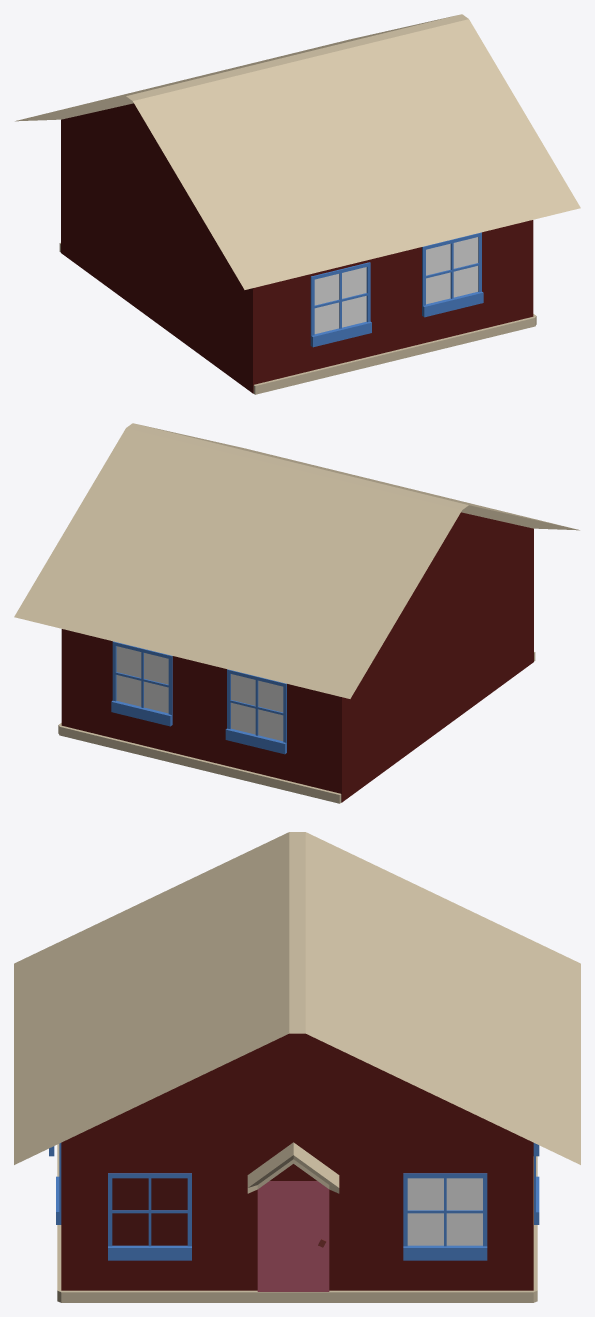
File: concrete_house1.fbx
3 views of the same model, one above another, from view 1: azimuth 30°, elevation 25°; view 2: azimuth 150°, elevation 25°; view 3: azimuth 270°, elevation 25° (orthographic). The views are drawn at different scales.
Visible parts, largest first — view 1: Concrete House_1; view 2: Concrete House_1; view 3: Concrete House_1.
Boxes of the visible parts, x1,y1,x2,y2 form: Concrete House_1: (15,14,580,394); Concrete House_1: (14,423,579,803); Concrete House_1: (14,832,580,1302).
Size of the model in its own units: 5.88 by 3.87 by 6.99.
